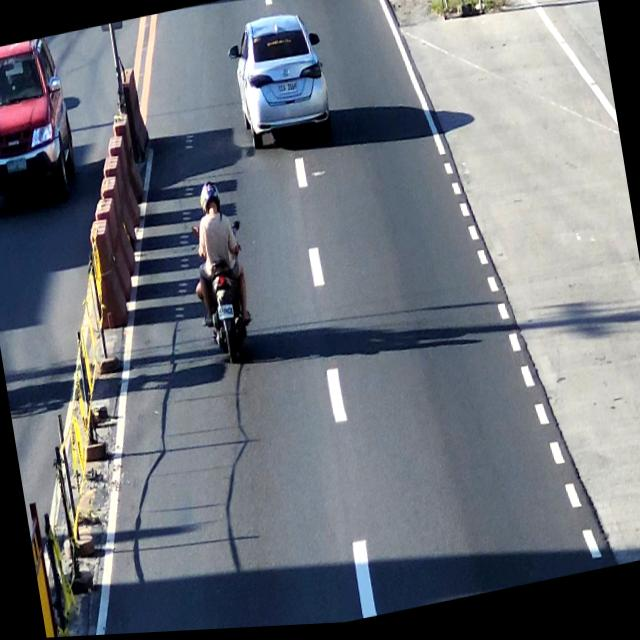Car: (222, 4, 338, 163)
License-Plate: (273, 79, 300, 102), (214, 302, 238, 324)
Motorcycle: (183, 174, 256, 373)
